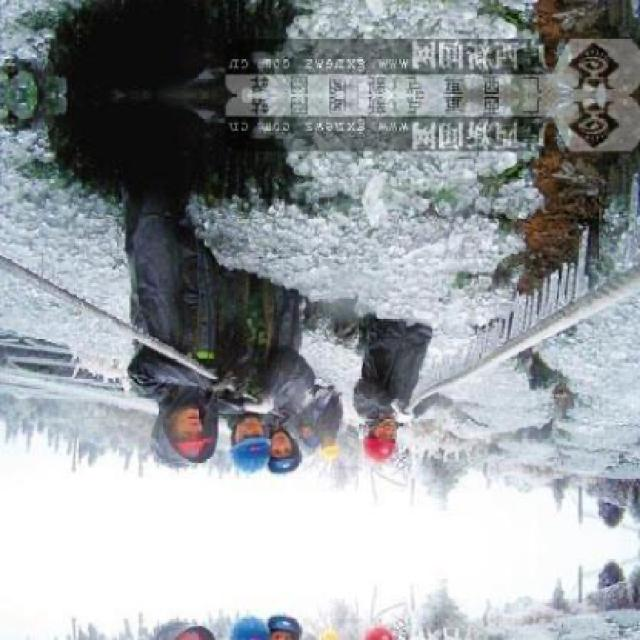con casco: (232, 418, 278, 476), (361, 416, 399, 462)
